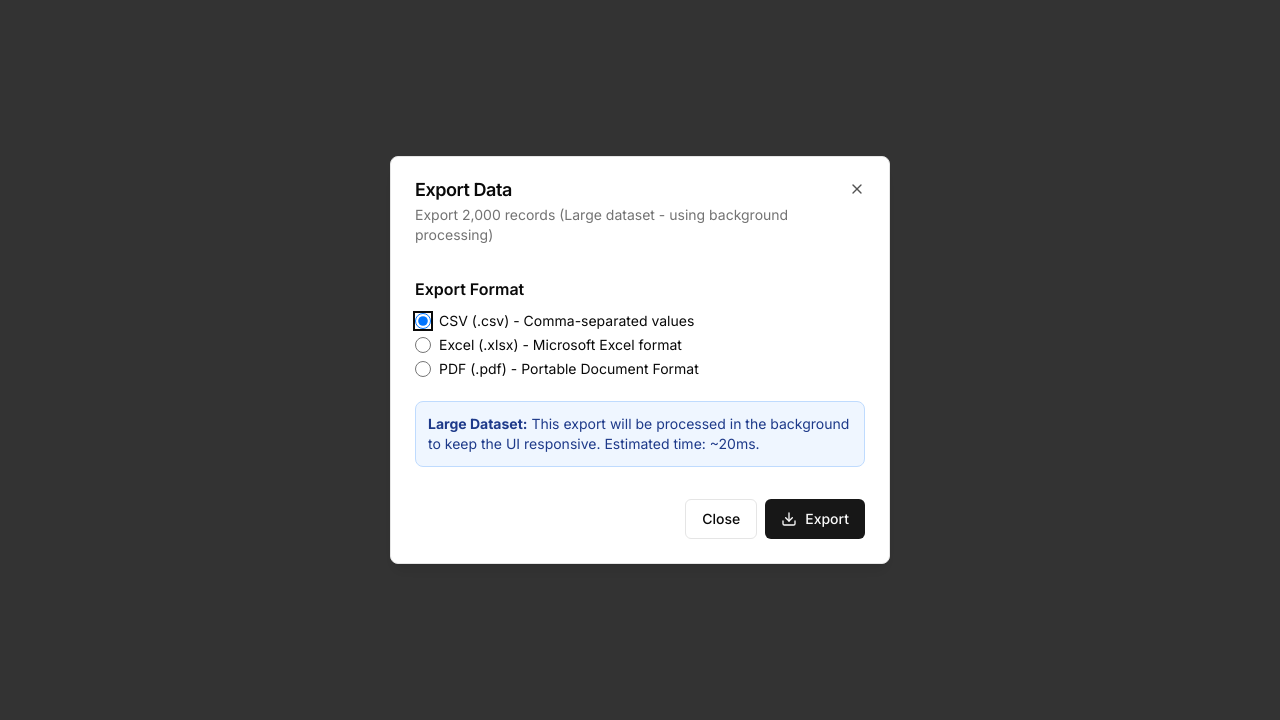
Test: LargeExportDialog › should show progress during export
Click the button "Export".
click(815, 519)  # box [765, 499, 865, 539]
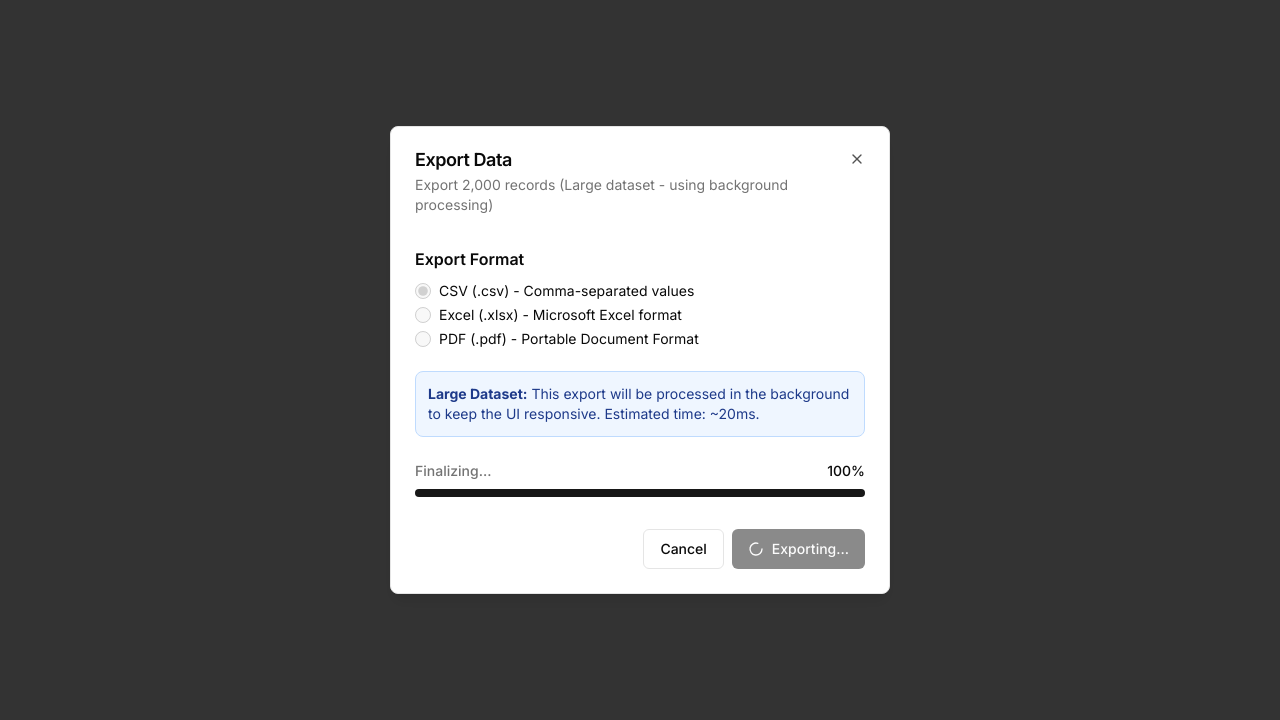
Check: the button "Exporting..." is shown, box [732, 529, 865, 569]
